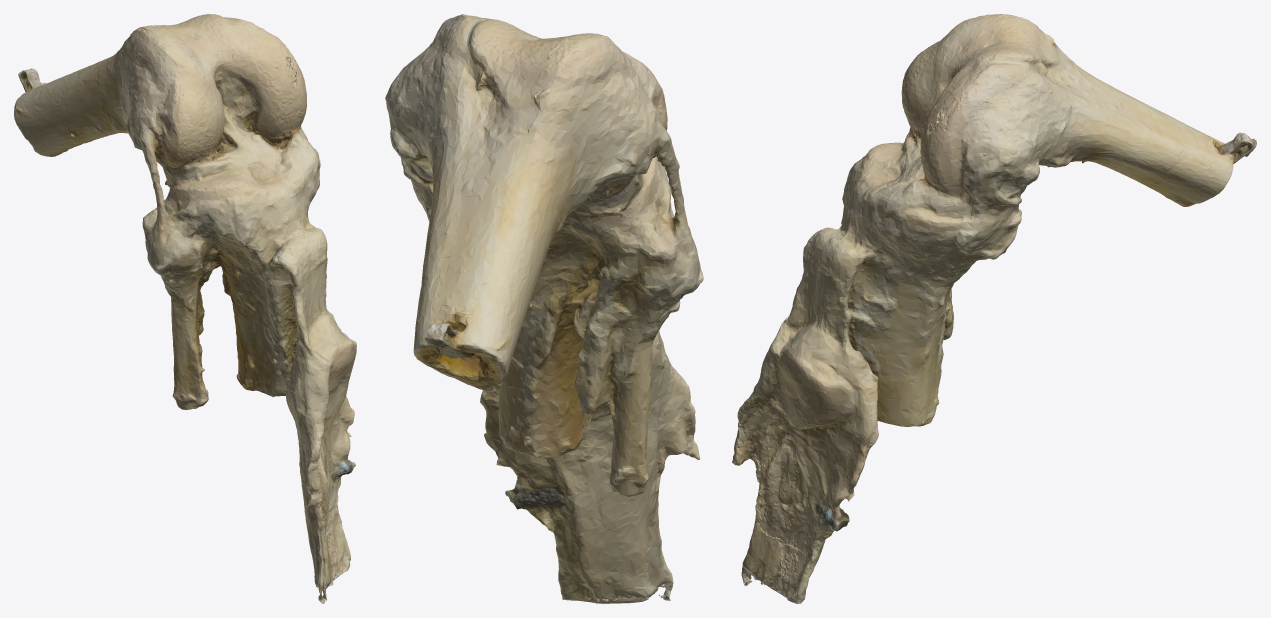
File: joints.glb
The picture shows the model from 3 angles, left to right: view 1: azimuth 30°, elevation 25°; view 2: azimuth 150°, elevation 25°; view 3: azimuth 270°, elevation 25°; orthographic projection. The views are drawn at different scales.
Parts seen in each view (by area): view 1: udambu; view 2: udambu; view 3: udambu.
Part boxes in pixels (x1,y1,x2,y2): udambu: [14, 14, 356, 603]; udambu: [385, 14, 703, 603]; udambu: [732, 14, 1256, 603].
Size of the model in its own units: 0.2284 by 0.6 by 0.5259.
